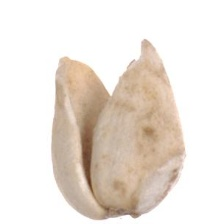L1: (58, 37, 148, 101), (100, 202, 150, 219)
L2: (51, 39, 185, 220)
